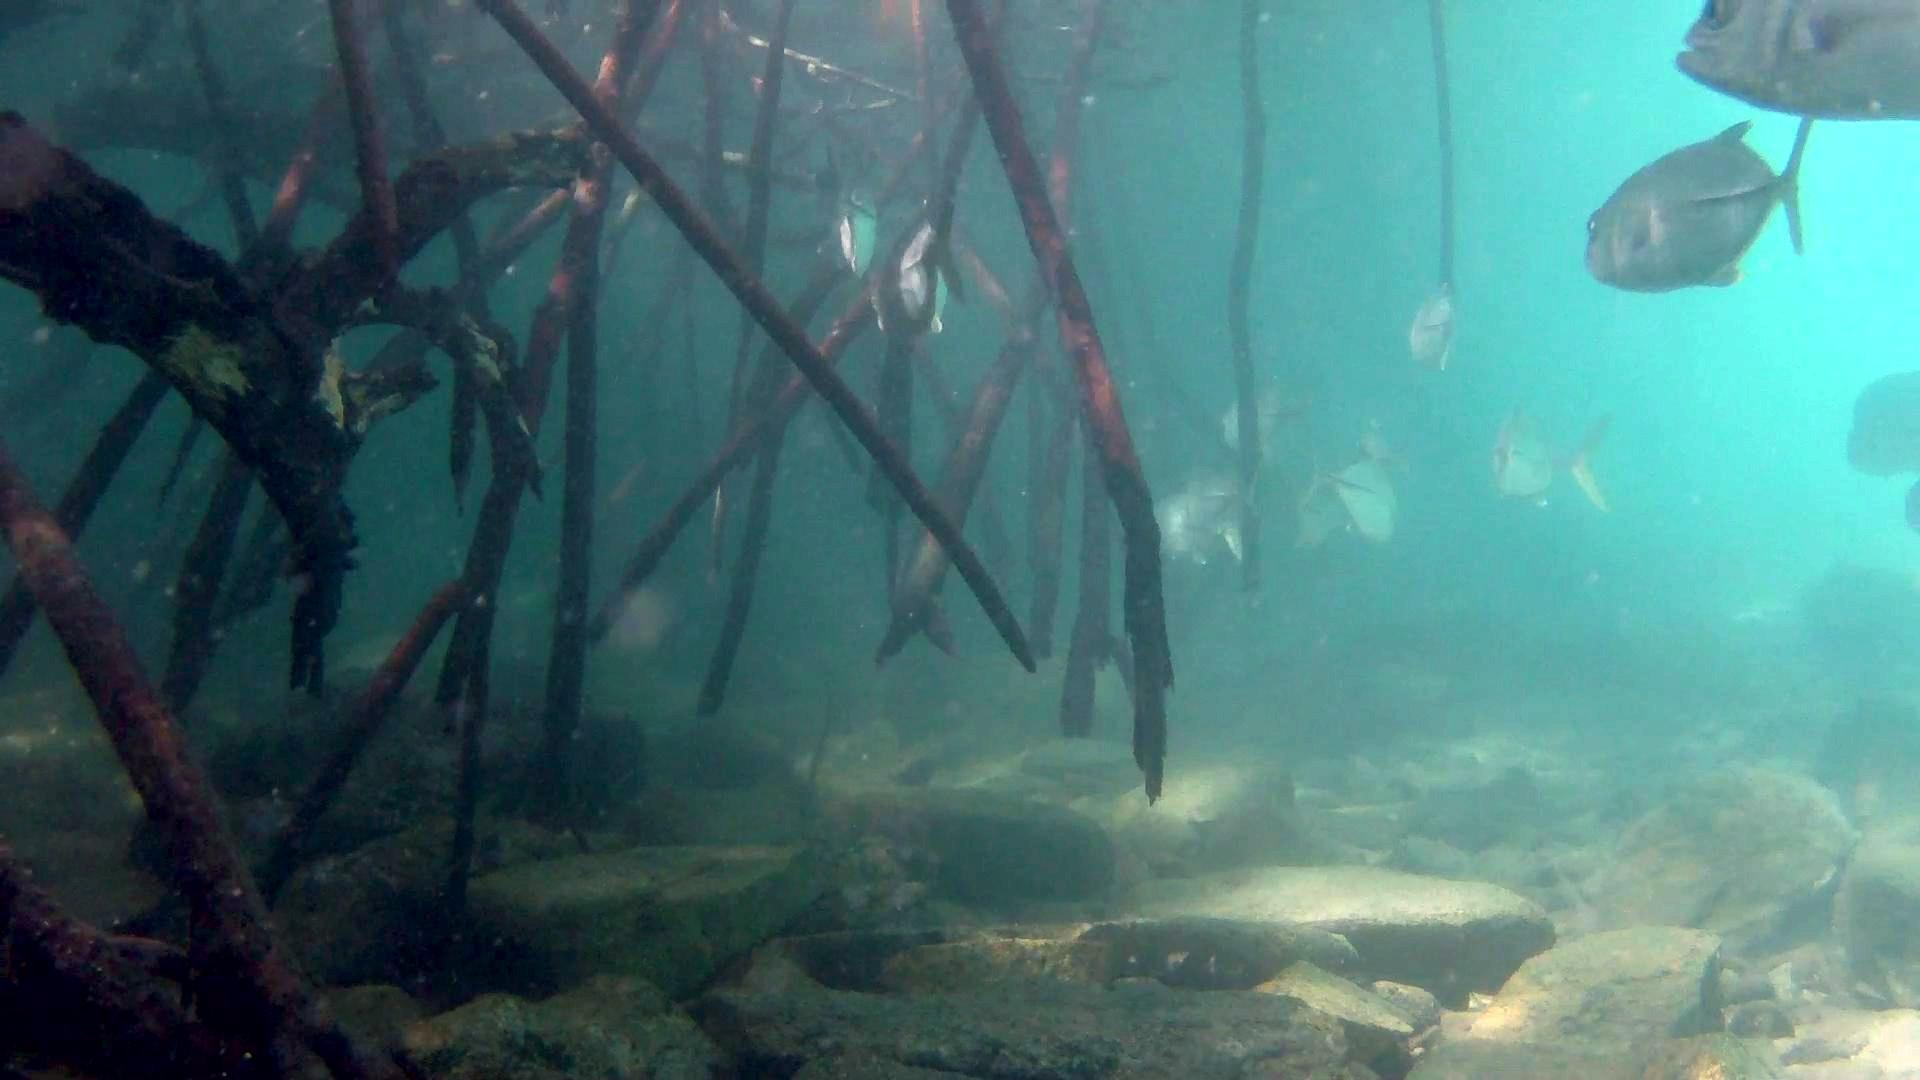caranx: (1578, 113, 1820, 299), (1671, 0, 1920, 124)
